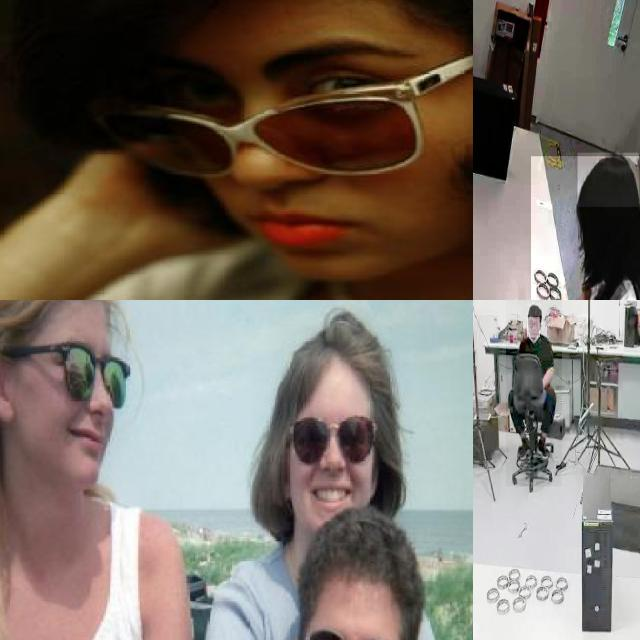No_Ear-Protection: (0, 345, 18, 423)
face_nomask: (170, 68, 391, 254), (55, 347, 126, 464), (288, 418, 372, 510), (527, 317, 541, 338)
glasses: (111, 29, 473, 176), (286, 413, 378, 470), (57, 339, 132, 408), (305, 625, 402, 640)
head_nohelmet: (293, 530, 427, 615), (274, 314, 396, 404), (0, 300, 121, 335), (577, 152, 640, 207), (528, 303, 542, 317)
person: (194, 314, 473, 640), (0, 300, 186, 640), (189, 525, 473, 640), (530, 156, 640, 300), (505, 300, 562, 487)
shoes: (516, 435, 532, 463), (536, 432, 550, 461)
